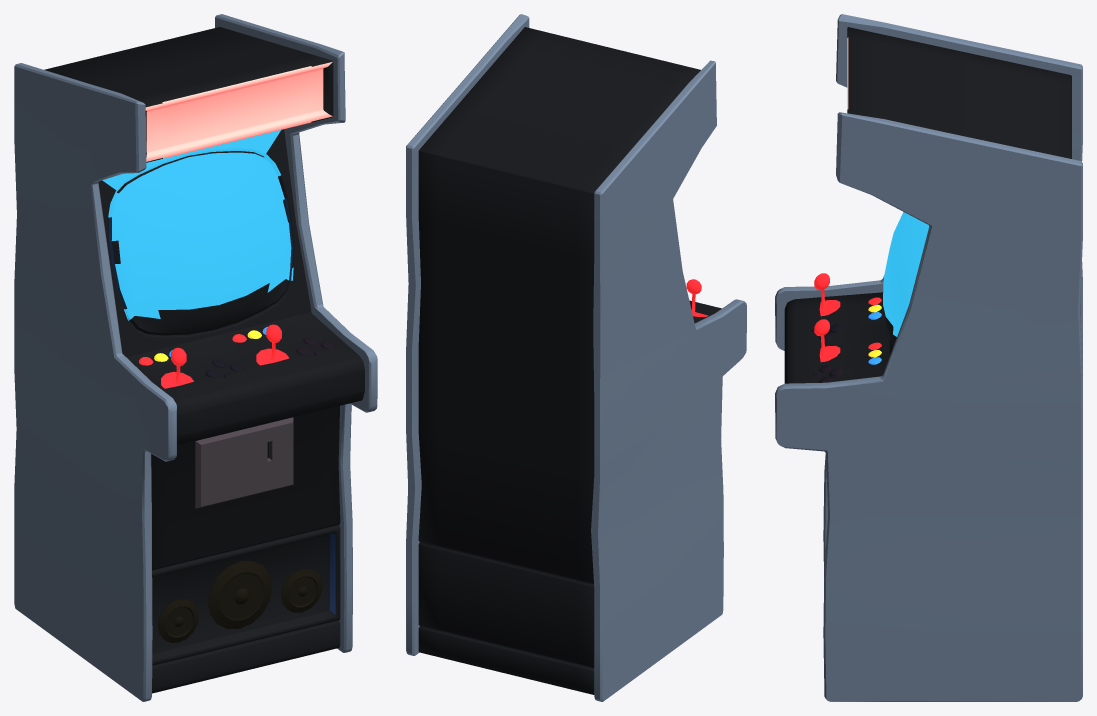
File: arcade.glb
3 views of the same model, side by side, from view 1: azimuth 30°, elevation 25°; view 2: azimuth 150°, elevation 25°; view 3: azimuth 270°, elevation 25° (orthographic). The views are drawn at different scales.
Parts seen in each view (by area): view 1: BODY; view 2: BODY; view 3: BODY.
Boxes of the visible parts, x1,y1,x2,y2 form: BODY: (14,14,377,701); BODY: (406,14,746,701); BODY: (775,14,1082,701).
Size of the model in its own units: 0.3675 by 1 by 0.4742.
